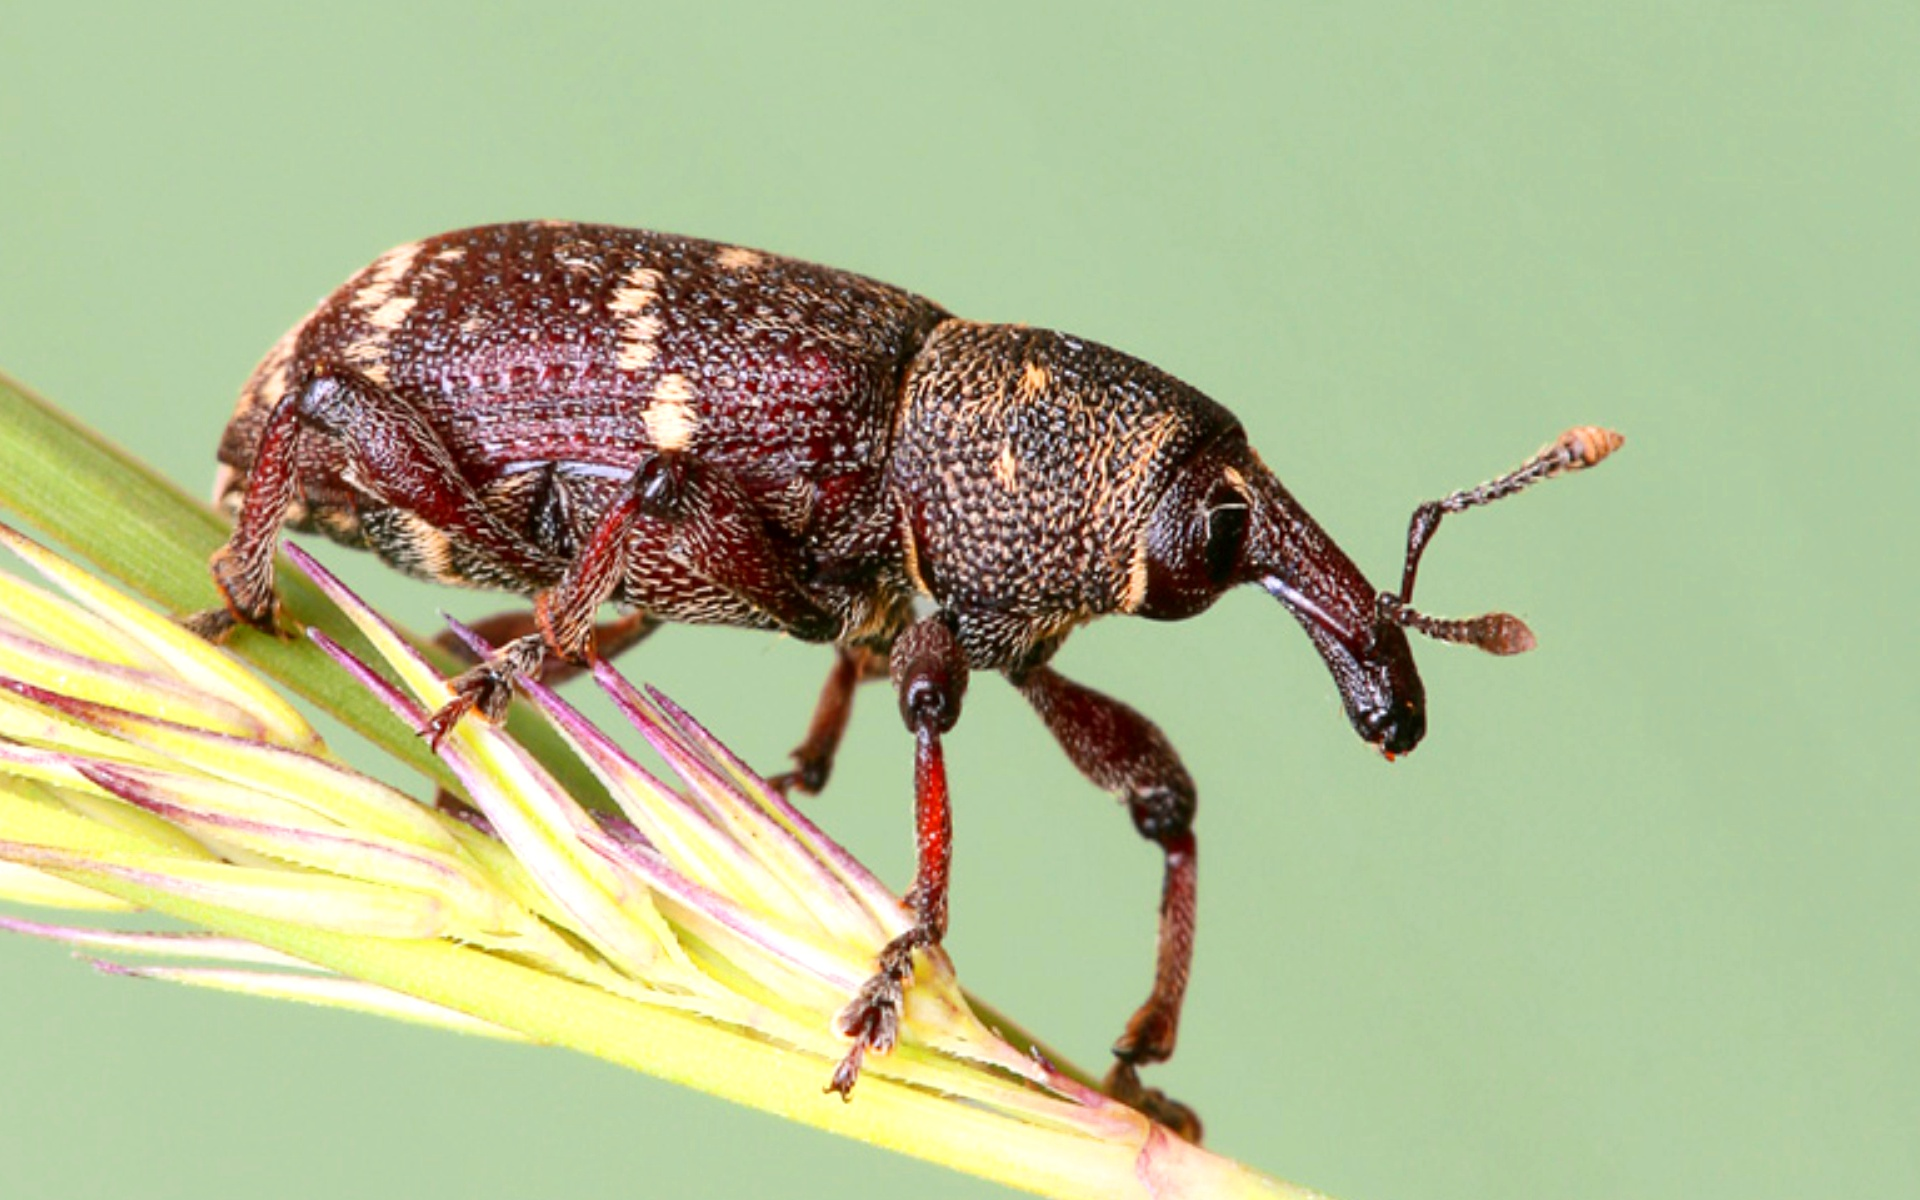dolgonosik: (191, 212, 1628, 1170)
